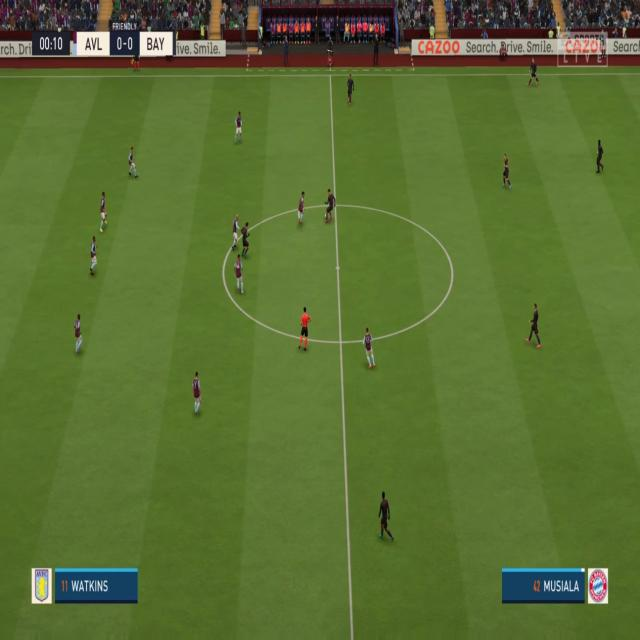Ball: (324, 214, 328, 219)
Referee: (298, 306, 312, 351)
Team-A: (378, 491, 394, 543), (525, 302, 542, 348), (323, 188, 336, 224), (501, 153, 513, 191), (241, 221, 250, 260), (527, 58, 539, 86), (346, 73, 355, 106), (596, 139, 604, 175)
Team-H: (362, 326, 376, 370), (192, 372, 203, 417), (73, 313, 85, 353), (88, 235, 99, 275), (234, 254, 244, 295), (231, 214, 241, 252), (99, 192, 108, 234), (128, 146, 139, 180), (234, 111, 243, 145), (298, 191, 306, 226)
